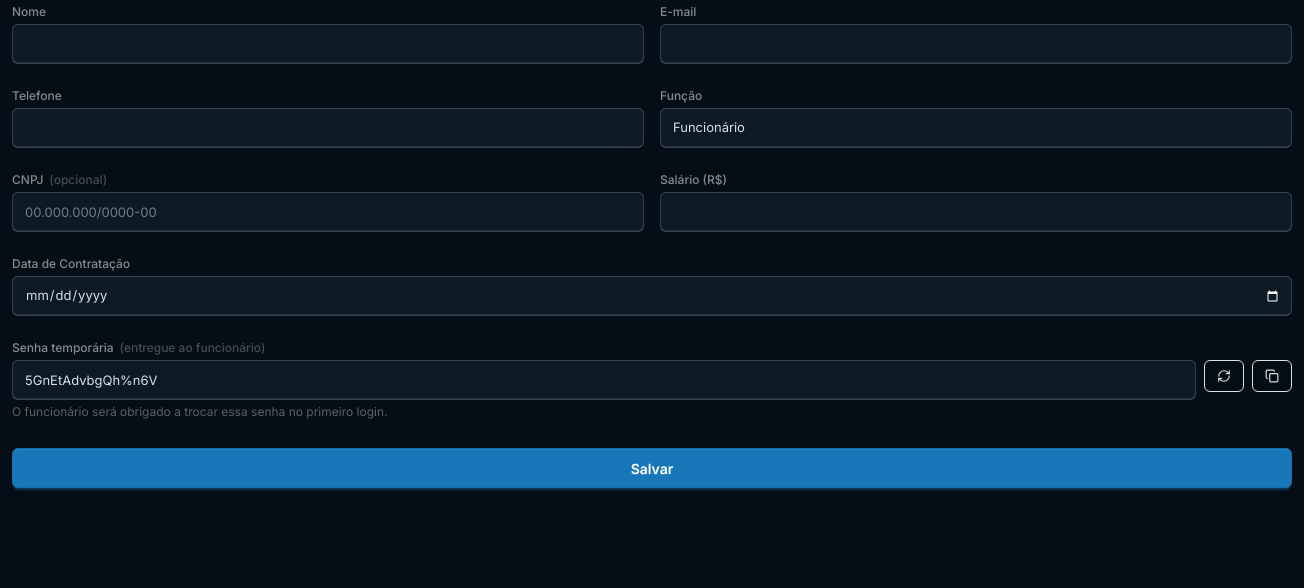
it: EmployeeForm — validação › exibe erros de validação nos campos obrigatórios ao submeter vazio
This screenshot has width=1304, height=588.
Click the button "Salvar" at (652, 468), box [12,448,1292,488]
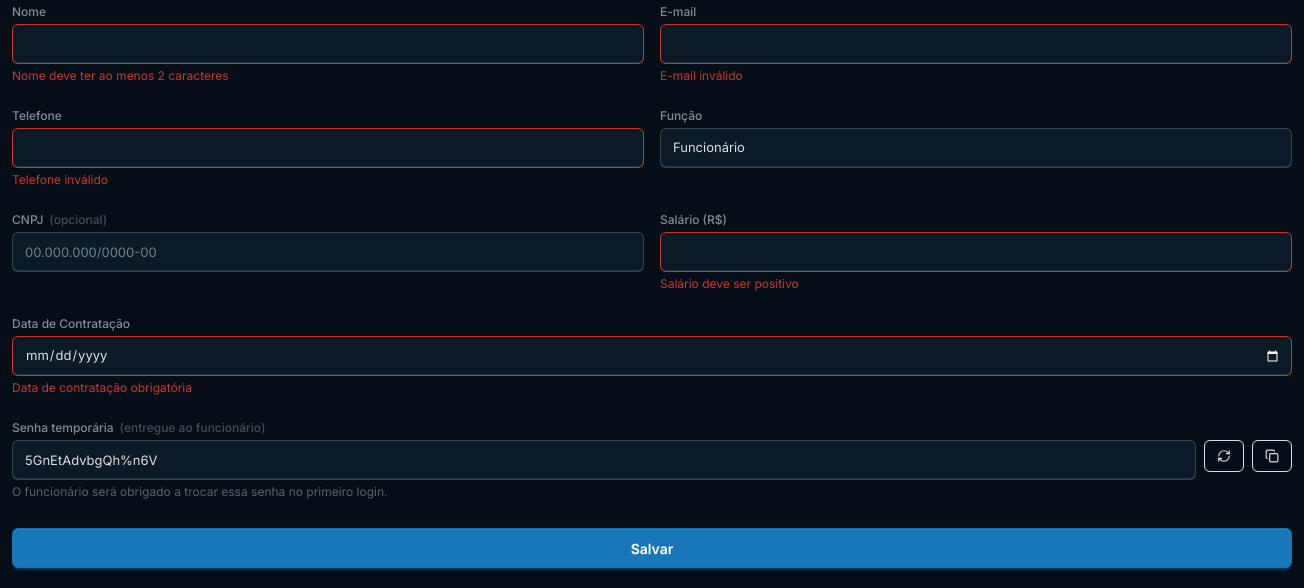
Expected: the text "Nome deve ter ao menos 2 caracteres" is shown, [12,68,229,83]
Expected: the text "Salário deve ser positivo" is shown, [660,276,799,291]
